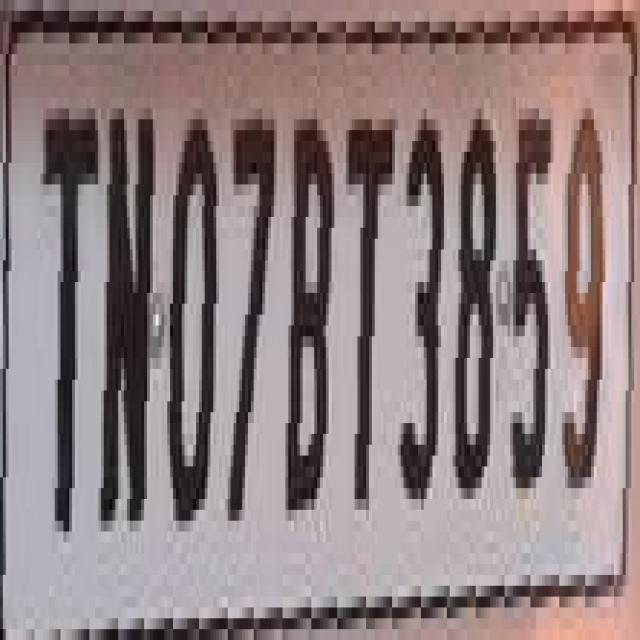license_plate: (20, 11, 640, 629)
